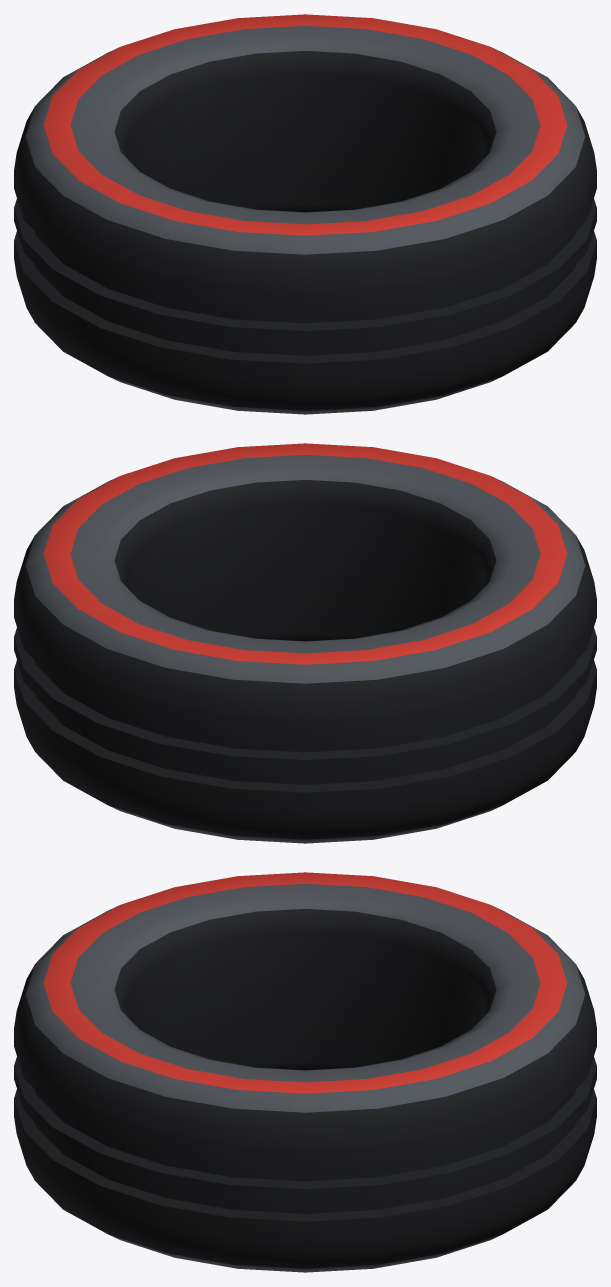
File: SM_Tire_01.glb
3 views of the same model, one above another, from view 1: azimuth 30°, elevation 25°; view 2: azimuth 150°, elevation 25°; view 3: azimuth 270°, elevation 25° (orthographic).
Parts seen in each view (by area): view 1: SM_Tire_01; view 2: SM_Tire_01; view 3: SM_Tire_01.
Boxes of the visible parts, x1,y1,x2,y2 form: SM_Tire_01: (14,14,596,414); SM_Tire_01: (14,443,596,843); SM_Tire_01: (14,872,596,1272).
Bounding box in the file's own units: 0.65 × 0.22 × 0.65.
1 material, 1 textured.
